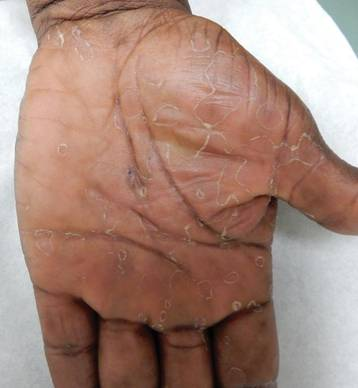Diseased: (39, 27, 291, 355)
